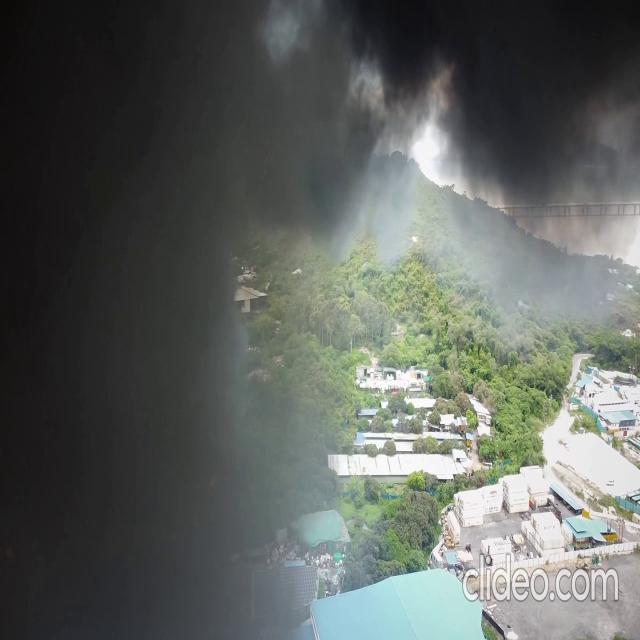Smoke: (12, 0, 360, 632), (325, 1, 640, 222)
